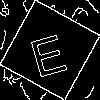E: (25, 25, 70, 78)
